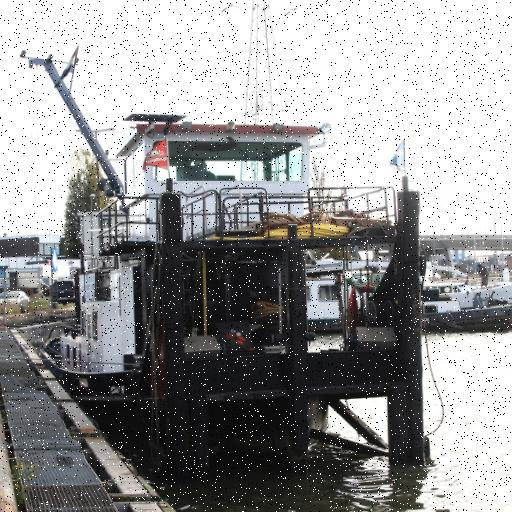tugboat: (18, 47, 437, 486)
